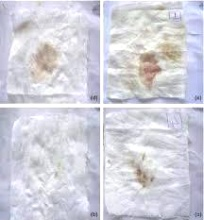blood: (138, 53, 160, 89), (135, 168, 150, 188)
